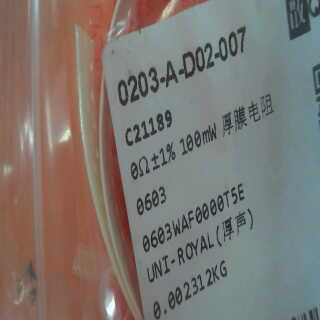0R: (131, 140, 175, 221)
